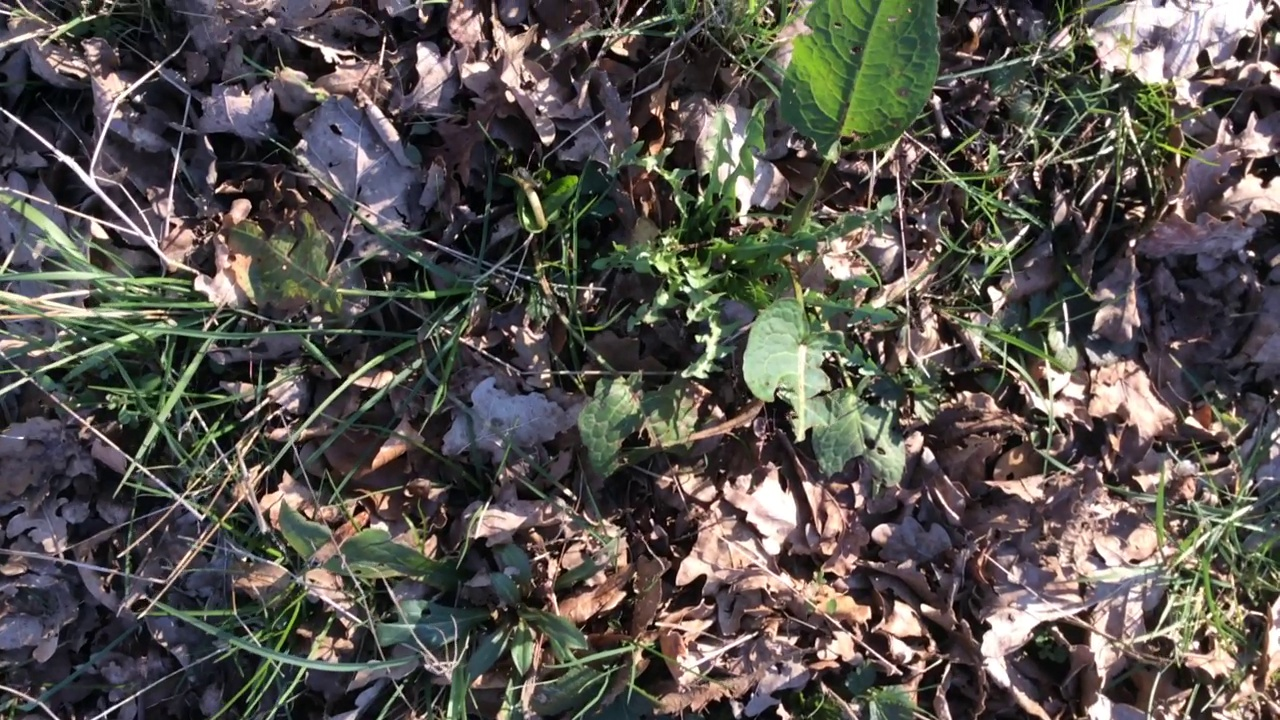rumex: (579, 1, 942, 487)
